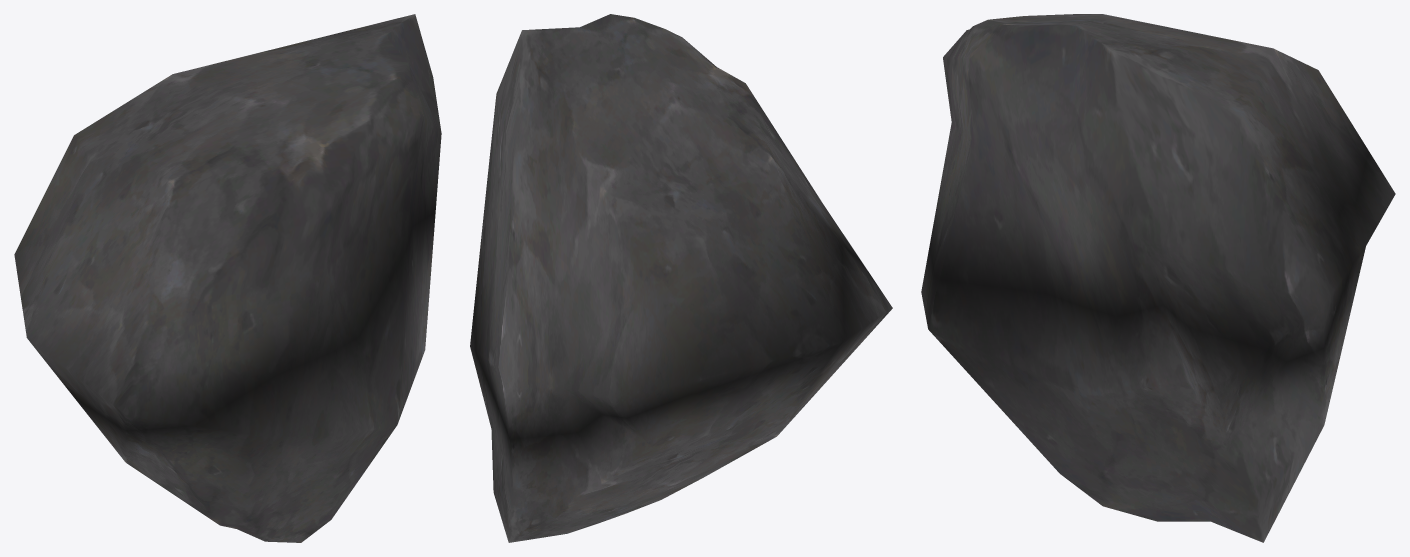
The model's file is cragrocksmall_b02.obj.
The picture shows the model from 3 angles, left to right: view 1: azimuth 30°, elevation 25°; view 2: azimuth 150°, elevation 25°; view 3: azimuth 270°, elevation 25°; orthographic projection. The views are drawn at different scales.
Parts seen in each view (by area): view 1: world/expansion06/doodads/suramar/7sr_cragrocksmall_b02.m2_Geose; view 2: world/expansion06/doodads/suramar/7sr_cragrocksmall_b02.m2_Geose; view 3: world/expansion06/doodads/suramar/7sr_cragrocksmall_b02.m2_Geose.
Boxes of the visible parts, x1,y1,x2,y2 form: world/expansion06/doodads/suramar/7sr_cragrocksmall_b02.m2_Geose: [14, 14, 441, 542]; world/expansion06/doodads/suramar/7sr_cragrocksmall_b02.m2_Geose: [470, 14, 892, 542]; world/expansion06/doodads/suramar/7sr_cragrocksmall_b02.m2_Geose: [921, 14, 1395, 542].
Bounding box in the file's own units: 4.77 × 5.85 × 4.77.
1 material, 1 textured.
